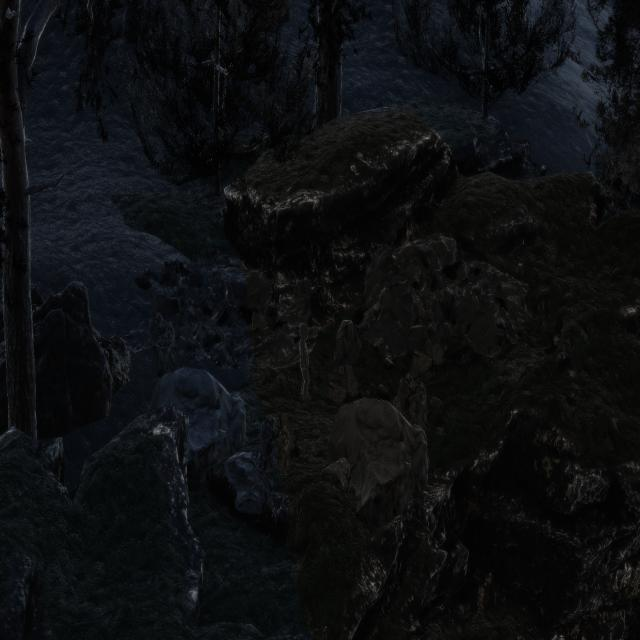Human: (290, 309, 314, 422)
